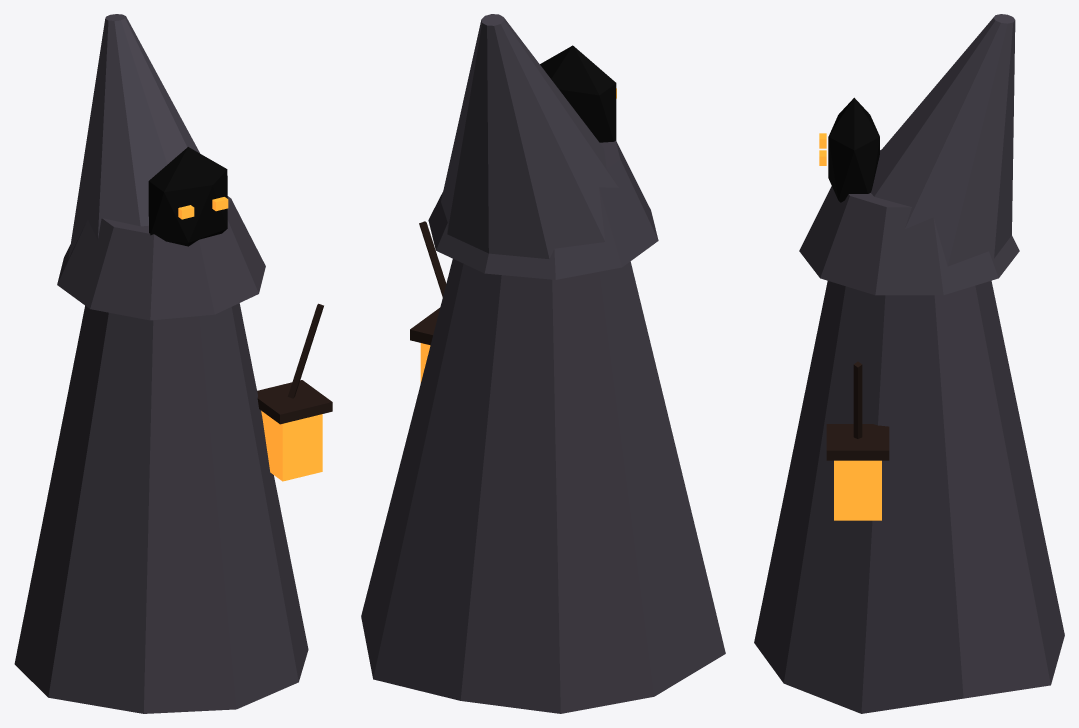
File: wanderer.glb
3 renders of one model, left to right at view 1: azimuth 30°, elevation 25°; view 2: azimuth 150°, elevation 25°; view 3: azimuth 270°, elevation 25°, orthographic. The views are drawn at different scales.
Parts seen in each view (by area): view 1: wanderer_body, wanderer_void, glow, lantern_frame; view 2: wanderer_body, wanderer_void, lantern_frame; view 3: wanderer_body, wanderer_void, glow, lantern_frame.
Boxes of the visible parts, bbox=[...] form: wanderer_body: bbox=[14, 14, 308, 713]; wanderer_void: bbox=[148, 147, 227, 246]; glow: bbox=[178, 197, 322, 481]; lantern_frame: bbox=[257, 303, 332, 424]; wanderer_body: bbox=[361, 14, 725, 713]; wanderer_void: bbox=[540, 45, 616, 142]; lantern_frame: bbox=[410, 221, 446, 345]; wanderer_body: bbox=[754, 14, 1064, 713]; wanderer_void: bbox=[828, 97, 879, 202]; glow: bbox=[819, 133, 881, 520]; lantern_frame: bbox=[826, 361, 889, 460].
Bounding box in the file's own units: 0.9039 × 1.9 × 0.8448.
